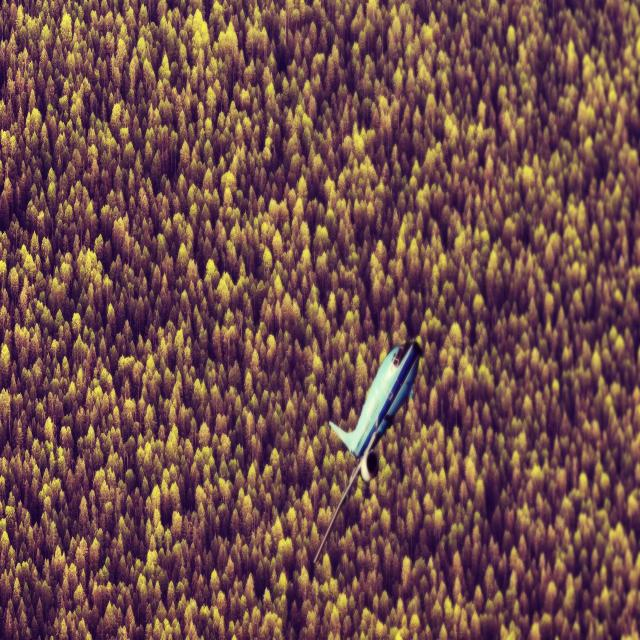airplane: (313, 338, 422, 564)
